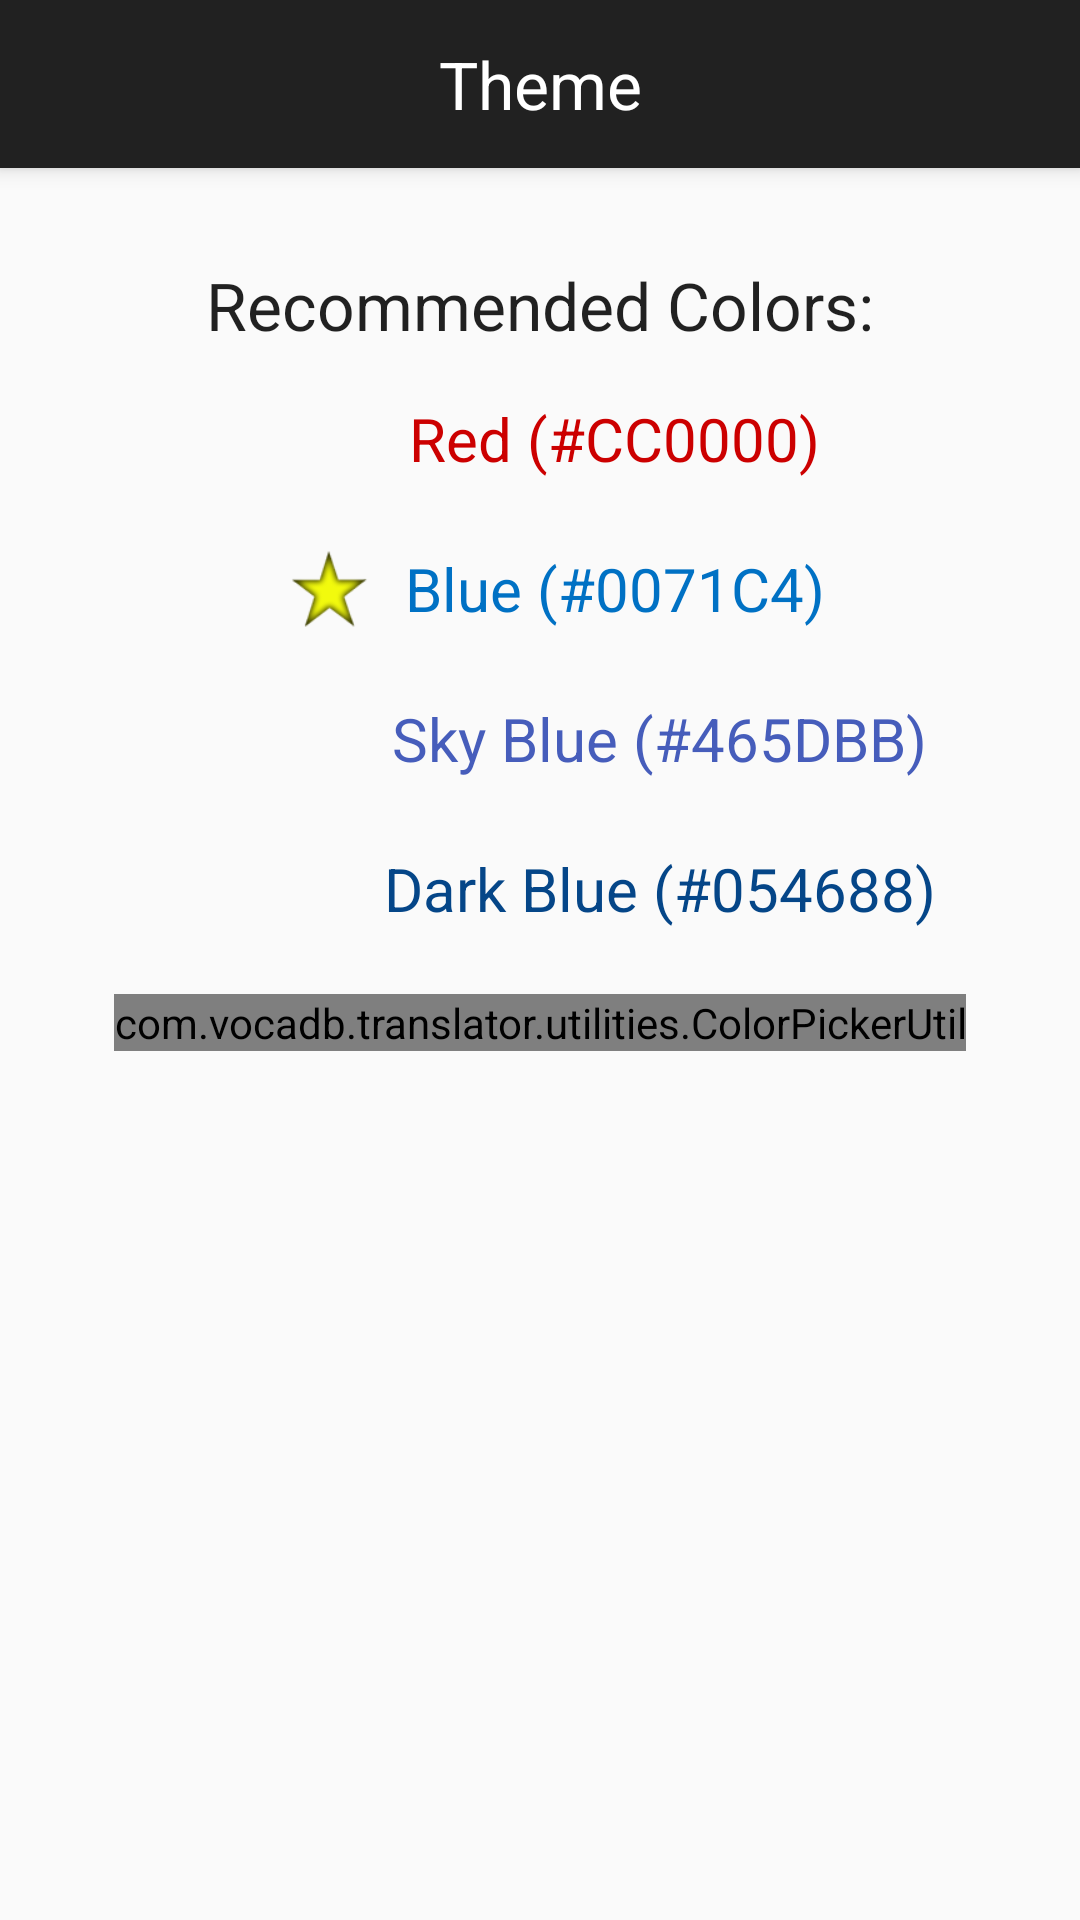

Icon bounding boxes for this 1080x1920 phone screenshot, format region(x1, y1, x2, y2):
fav: region(292, 551, 367, 627)
